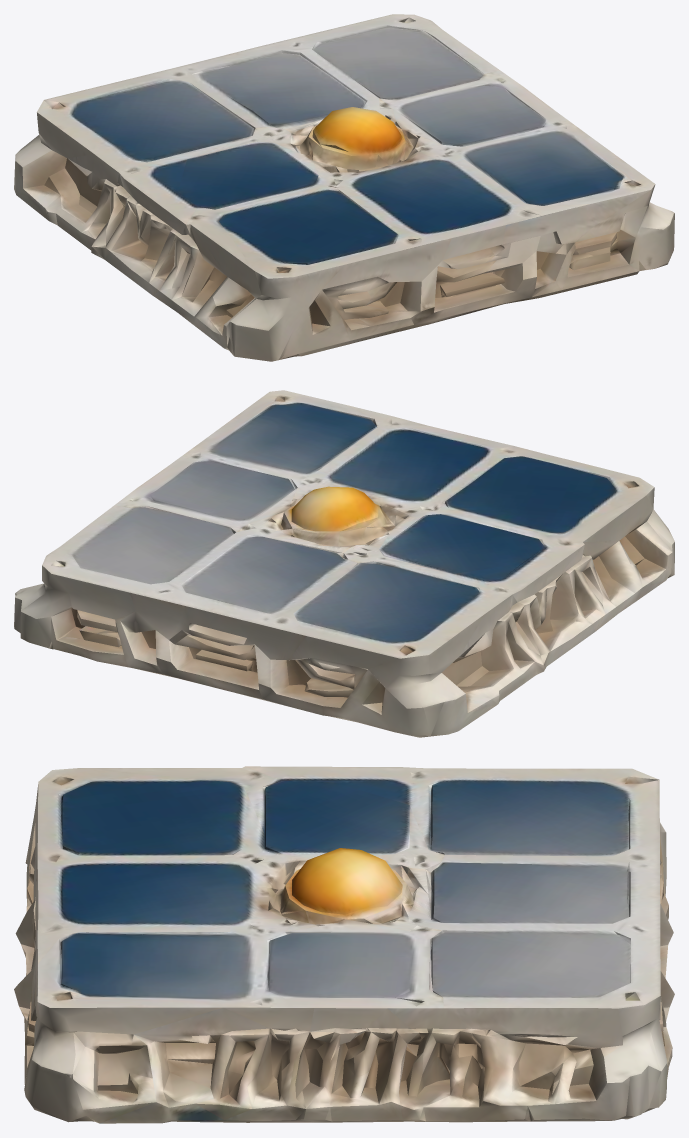
File: m2SatellitePanel.glb
The picture shows the model from 3 angles, top to bottom: view 1: azimuth 30°, elevation 25°; view 2: azimuth 150°, elevation 25°; view 3: azimuth 270°, elevation 25°; orthographic projection. The views are drawn at different scales.
Parts seen in each view (by area): view 1: model; view 2: model; view 3: model.
Boxes of the visible parts, left/top/right/bottom form: model: left=14, top=14, right=674, bottom=361; model: left=14, top=390, right=674, bottom=737; model: left=14, top=766, right=674, bottom=1123.
Bounding box in the file's own units: 1.89 × 0.4414 × 1.9.
Materials: 1 (1 with a texture image).
